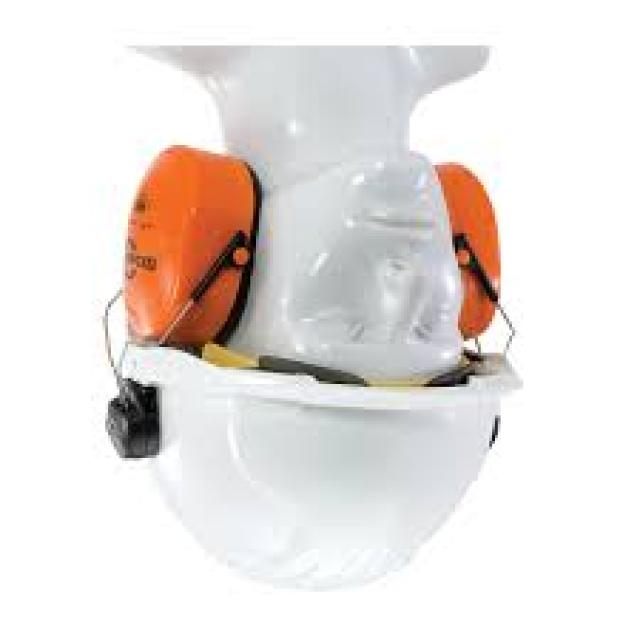Ear-Protection: (114, 145, 267, 350), (432, 165, 498, 350)
Helmet: (108, 339, 523, 600)
